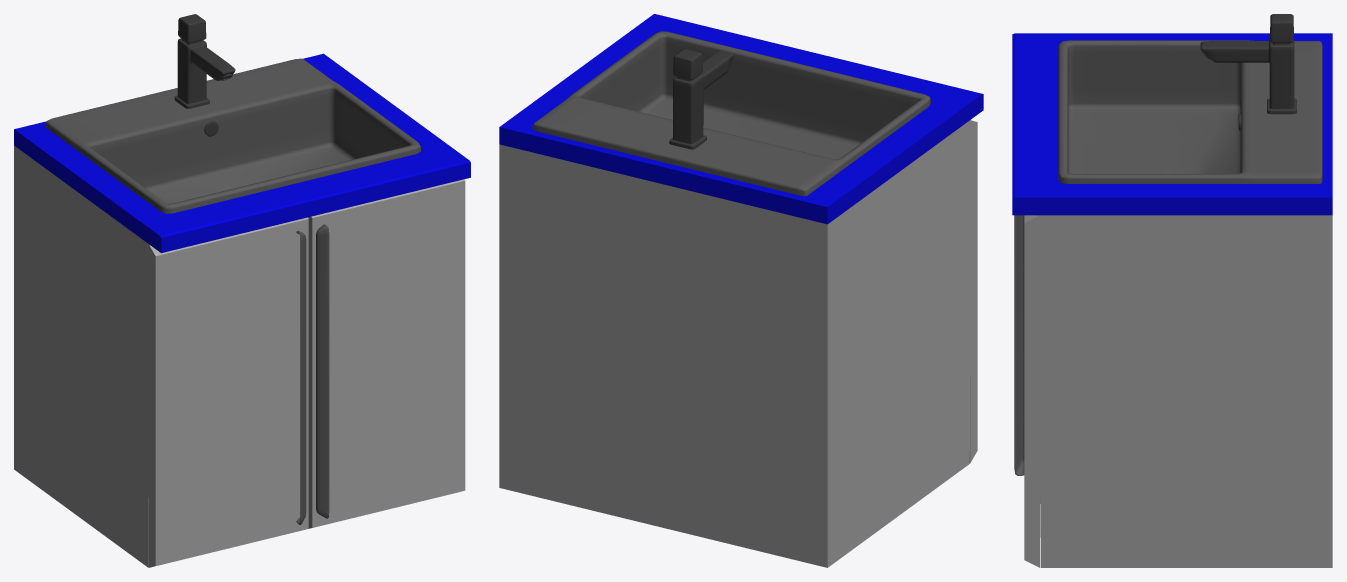
Rendered from CabinetSink.fbx.
3 renders of one model, left to right at view 1: azimuth 30°, elevation 25°; view 2: azimuth 150°, elevation 25°; view 3: azimuth 270°, elevation 25°, orthographic. The views are drawn at different scales.
Visible parts, largest first — view 1: Base, DoorL, DoorR, Sink, HandleR, HandleL; view 2: Base, Sink, DoorL; view 3: Base, Sink, DoorR, HandleR.
Part boxes in pixels (left/top/right/bottom): Base: left=14, top=53, right=470, bottom=567; DoorL: left=148, top=217, right=308, bottom=567; DoorR: left=308, top=179, right=465, bottom=528; Sink: left=45, top=14, right=420, bottom=213; HandleR: left=316, top=224, right=329, bottom=518; HandleL: left=296, top=231, right=306, bottom=524; Base: left=499, top=14, right=983, bottom=567; Sink: left=532, top=31, right=930, bottom=196; DoorL: left=969, top=120, right=977, bottom=463; Base: left=1012, top=33, right=1332, bottom=567; Sink: left=1058, top=14, right=1322, bottom=183; DoorR: left=1024, top=215, right=1039, bottom=567; HandleR: left=1014, top=215, right=1024, bottom=475.
Bounding box in the file's own units: 4 × 5.31 × 3.29.
